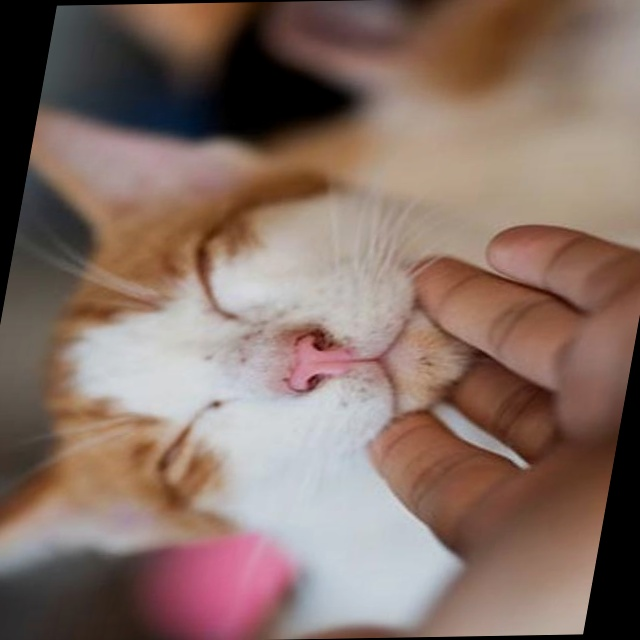acne: (194, 301, 296, 368)
